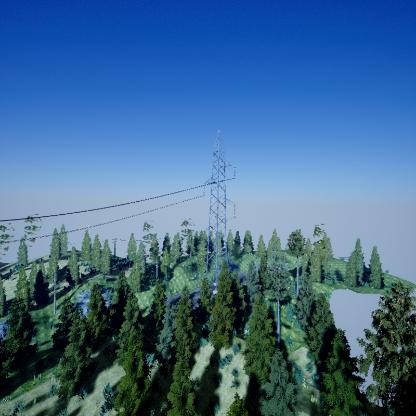tower: (201, 129, 238, 277)
